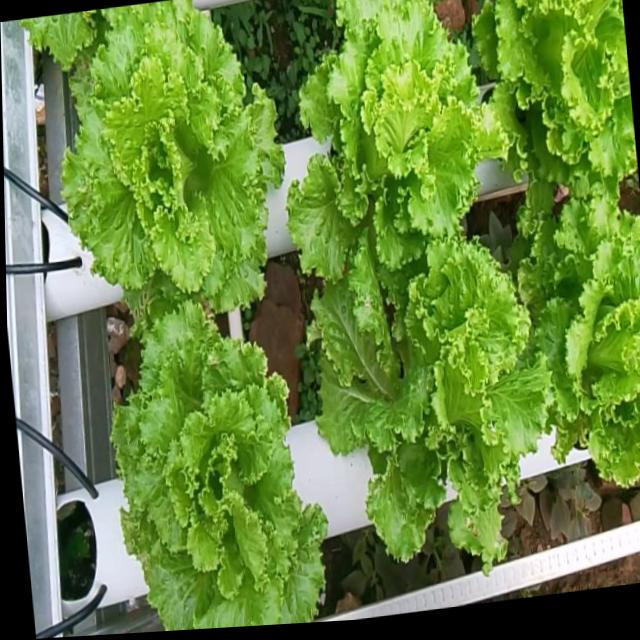Mature: (313, 234, 548, 602), (37, 0, 285, 321), (111, 299, 327, 631), (287, 0, 507, 282), (519, 196, 640, 487), (475, 0, 638, 211)
